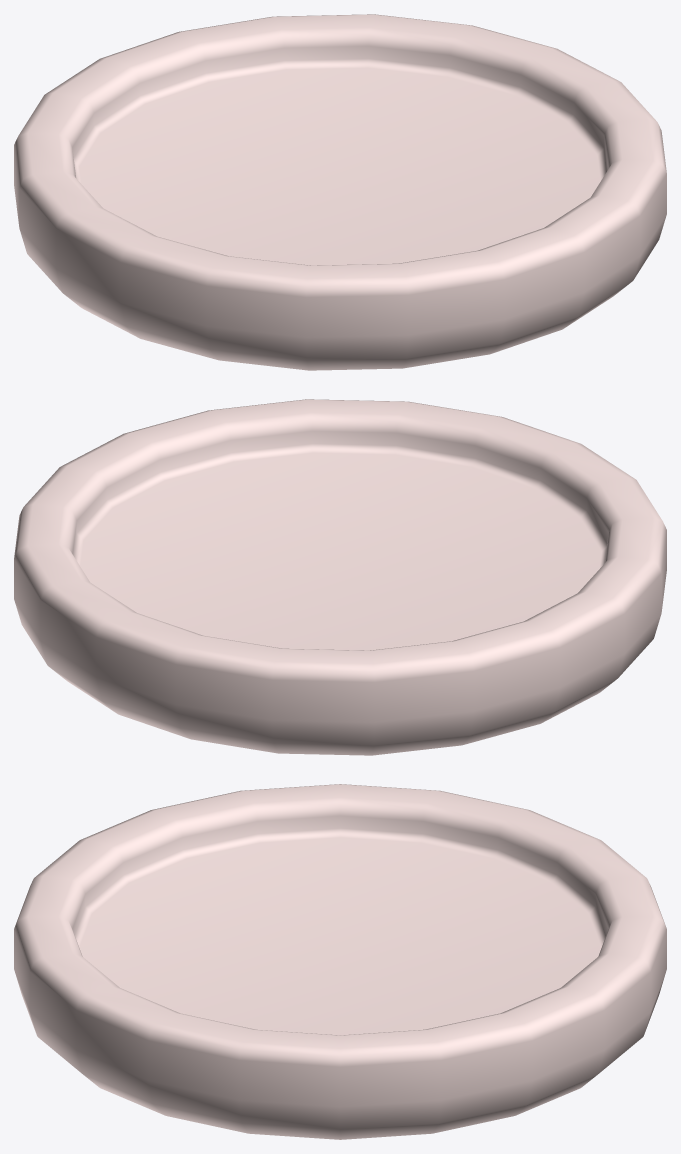
The model's file is Town_16_Plate_1.glb.
The picture shows the model from 3 angles, top to bottom: view 1: azimuth 30°, elevation 25°; view 2: azimuth 150°, elevation 25°; view 3: azimuth 270°, elevation 25°; orthographic projection.
Parts seen in each view (by area): view 1: Town_16_Plate_1; view 2: Town_16_Plate_1; view 3: Town_16_Plate_1.
Boxes of the visible parts, left/top/right/bottom form: Town_16_Plate_1: left=14, top=14, right=666, bottom=370; Town_16_Plate_1: left=14, top=399, right=666, bottom=755; Town_16_Plate_1: left=14, top=784, right=666, bottom=1139.
Bounding box in the file's own units: 0.2648 × 0.0468 × 0.2648.
1 material, 1 textured.
